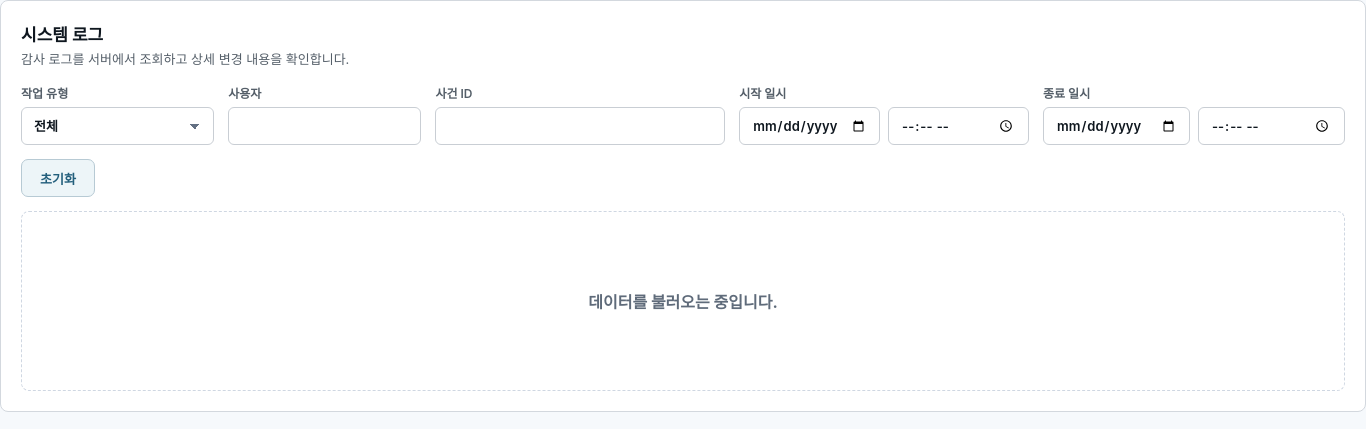
Scenario: LogsView › ignores a stale response after a newer filter request
Step 1. Select "CASE_UPDATED" in the dropdown labelled "작업 유형" → (118, 126), box [21, 107, 214, 145]
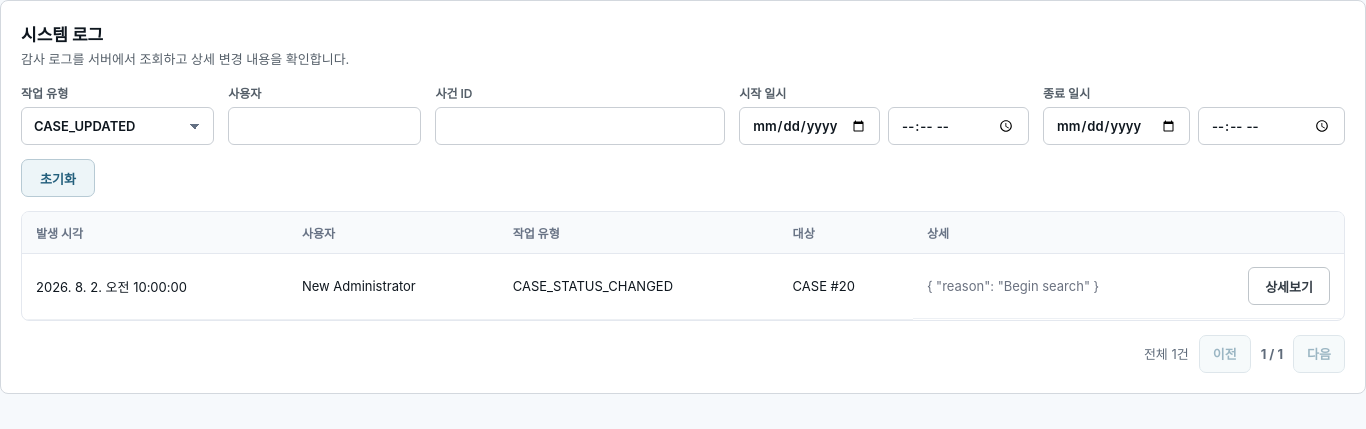
Now the text "New Administrator" is shown, box [288, 254, 499, 319]
